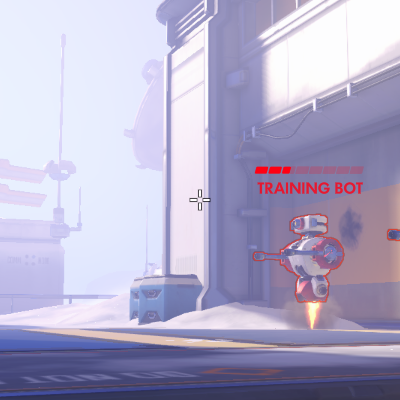hpbar: (254, 166, 364, 174)
